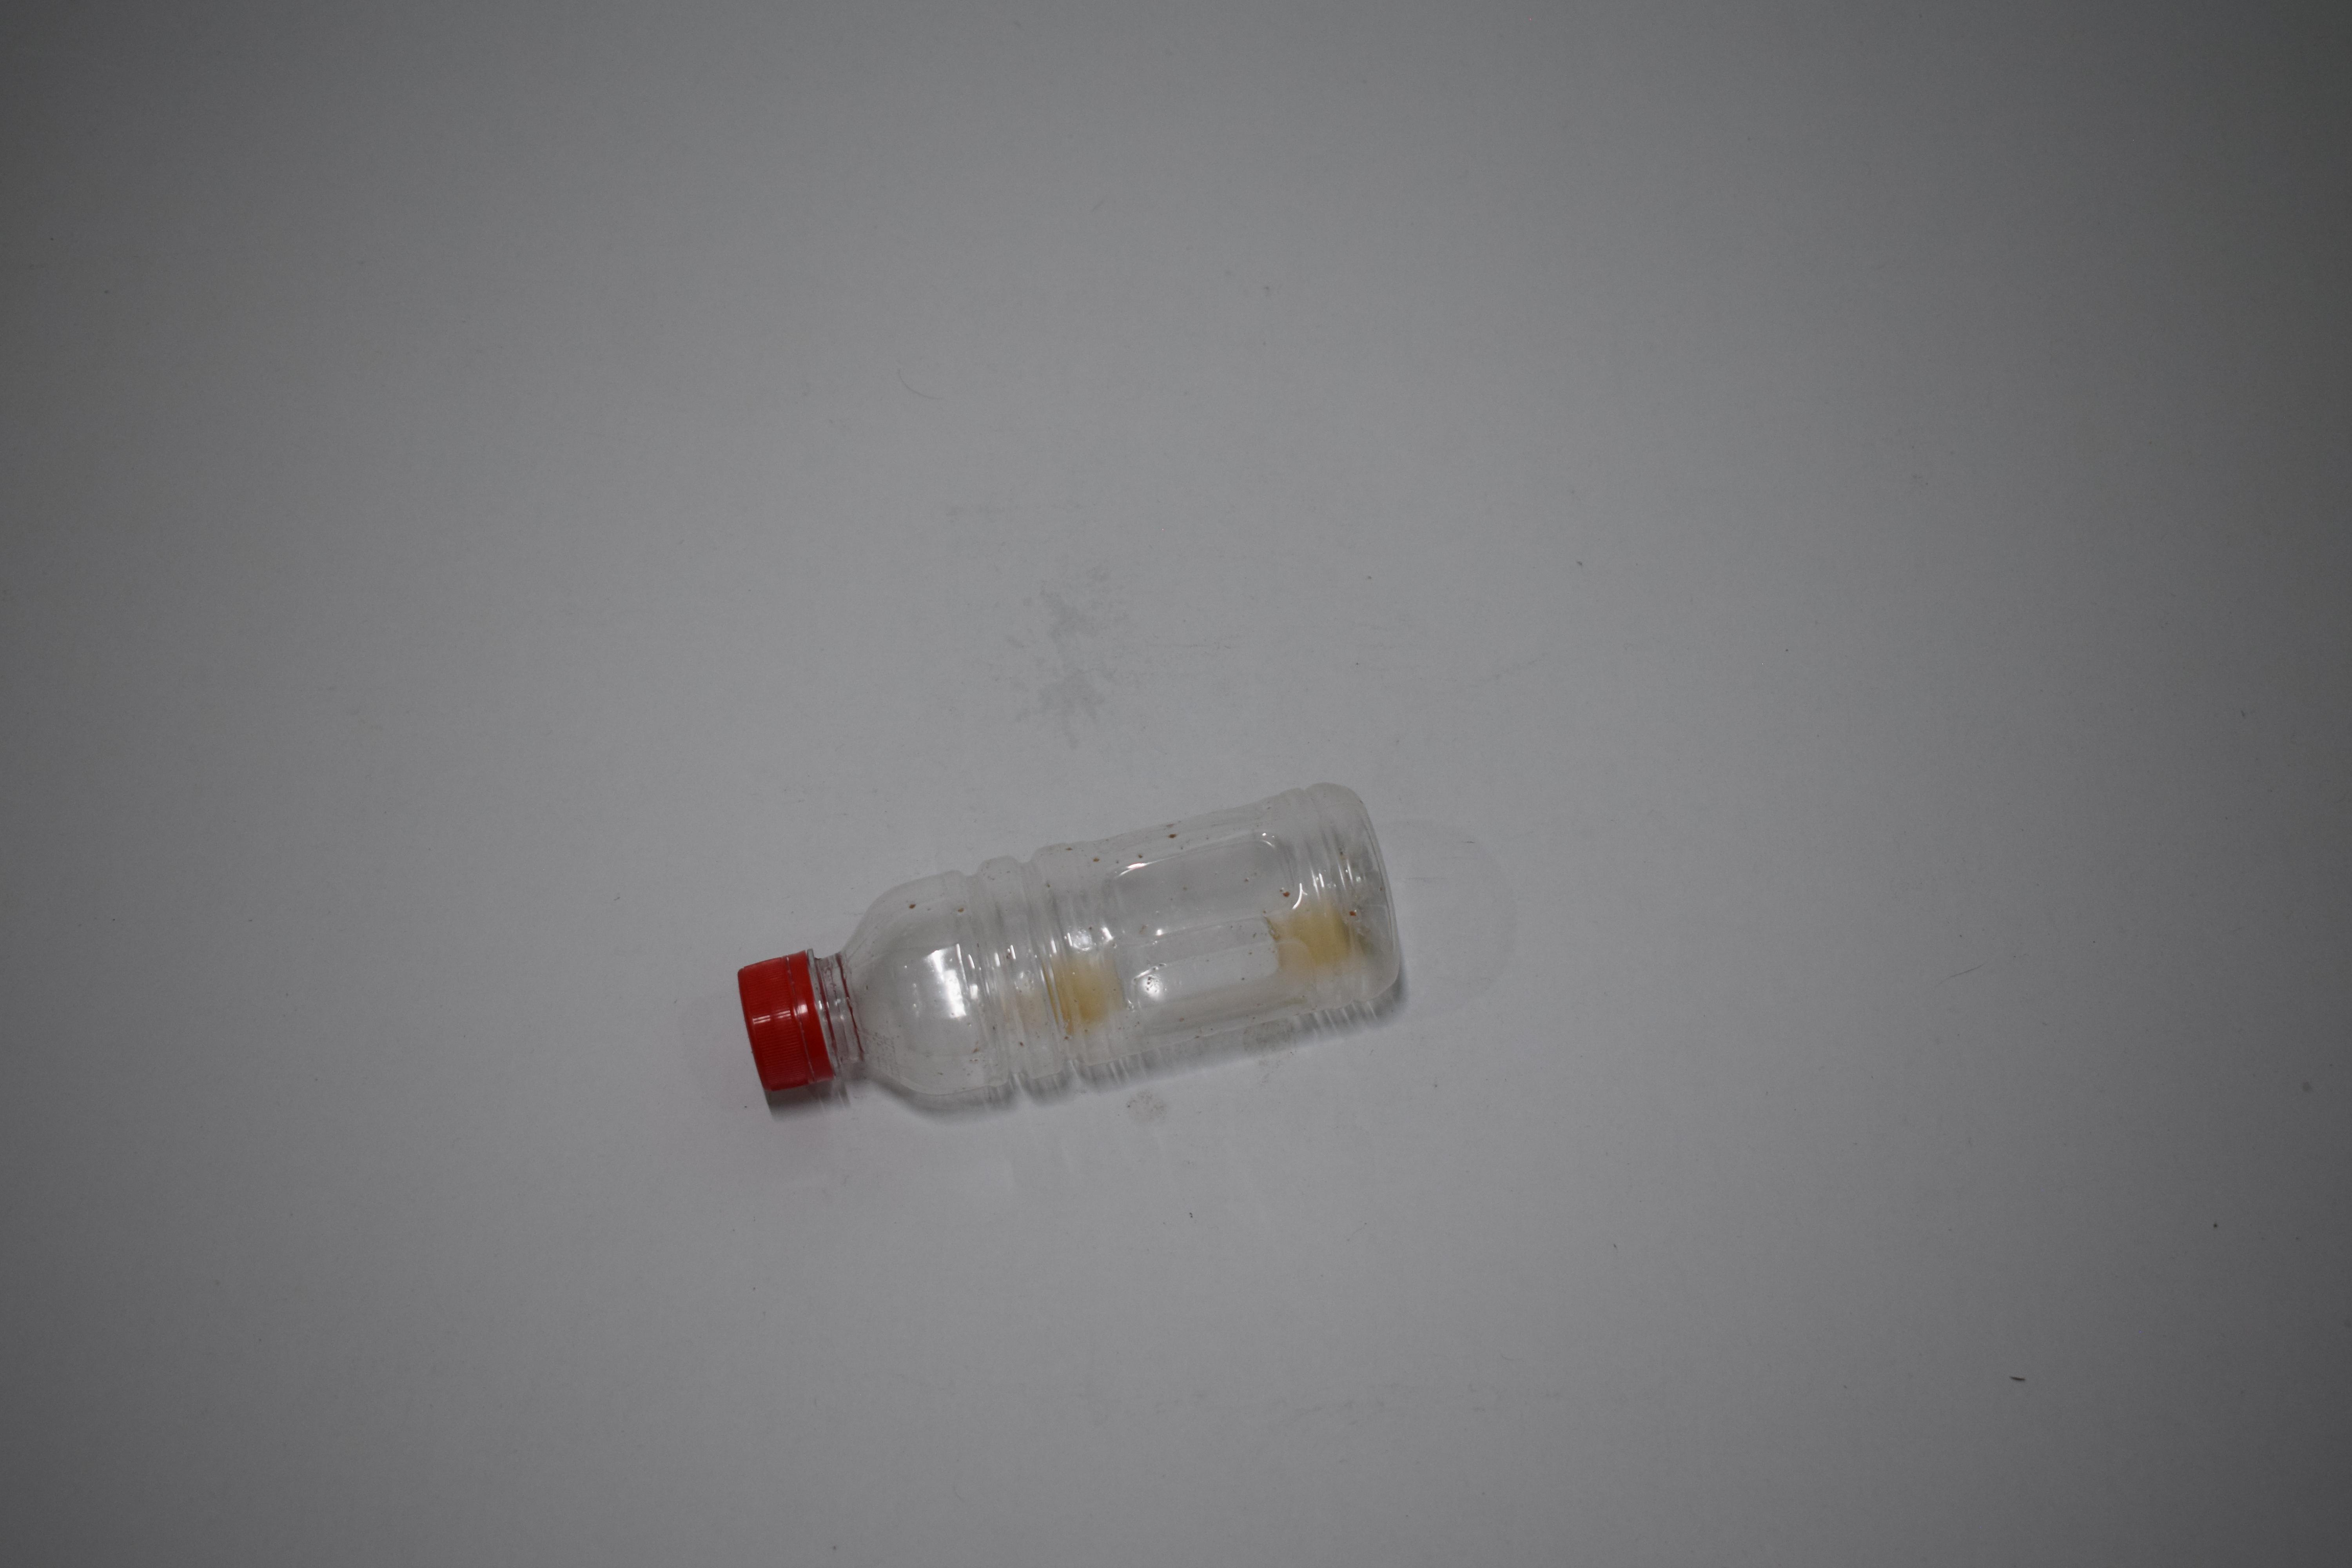bottle: (600, 777, 1281, 1116)
